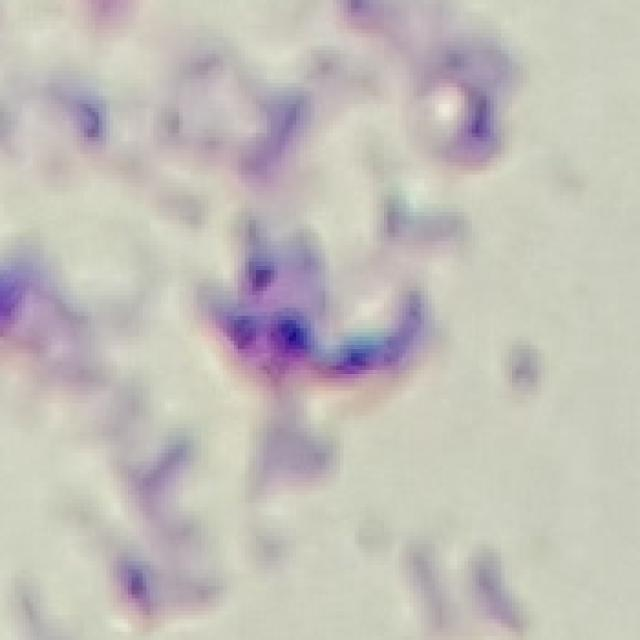non-sperm: (210, 230, 430, 388)
